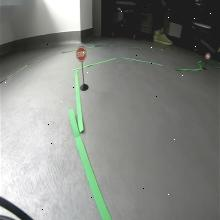stop: (75, 46, 88, 62)
